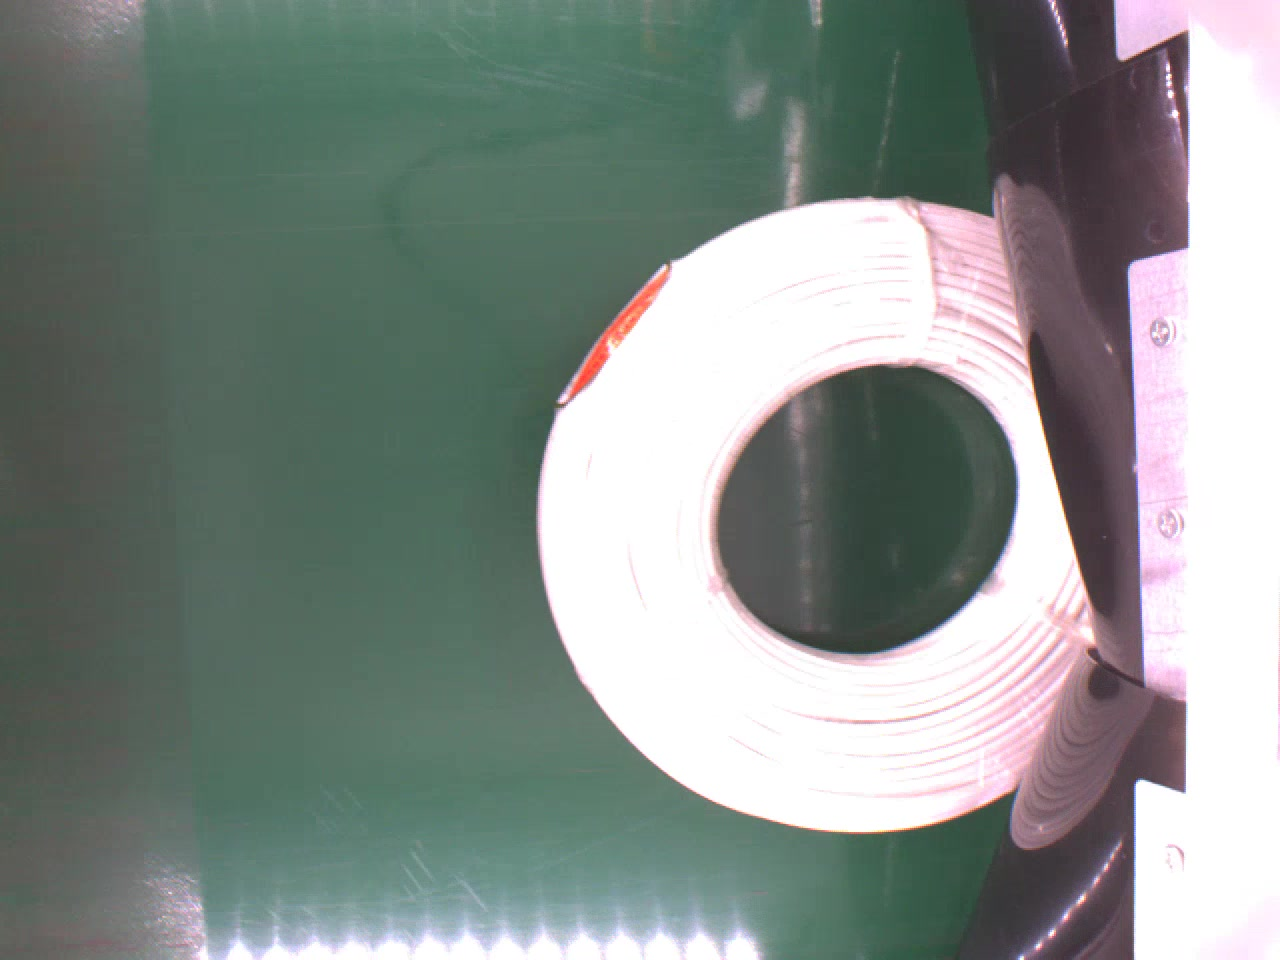white: (538, 187, 1098, 836)
